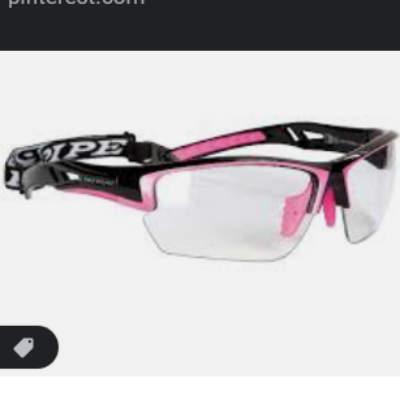glasses: (1, 120, 400, 274)
